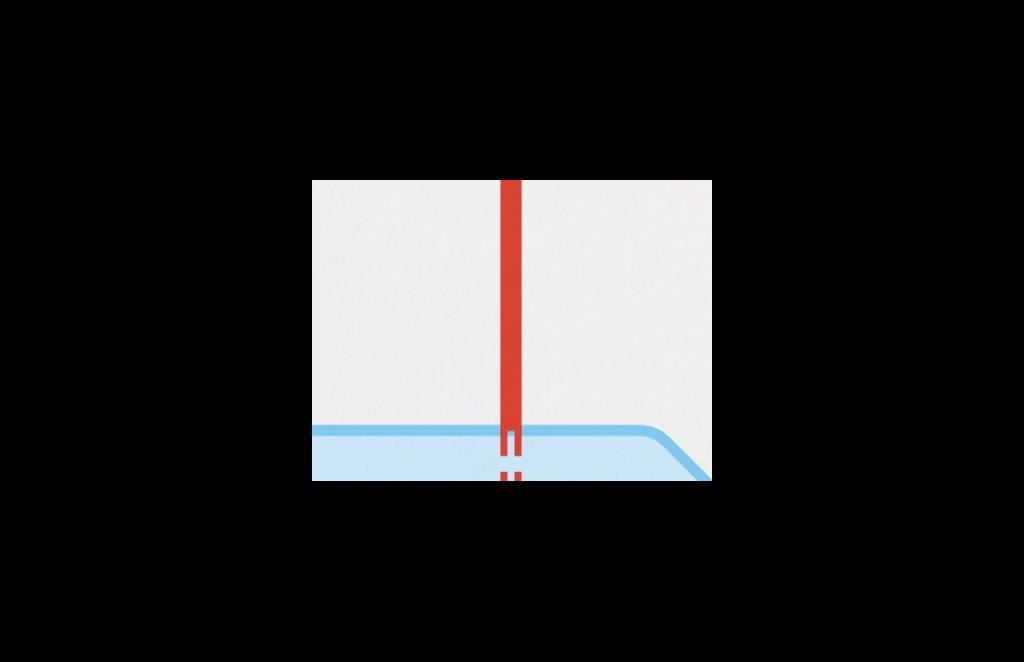tunnel: (481, 412, 568, 481)
